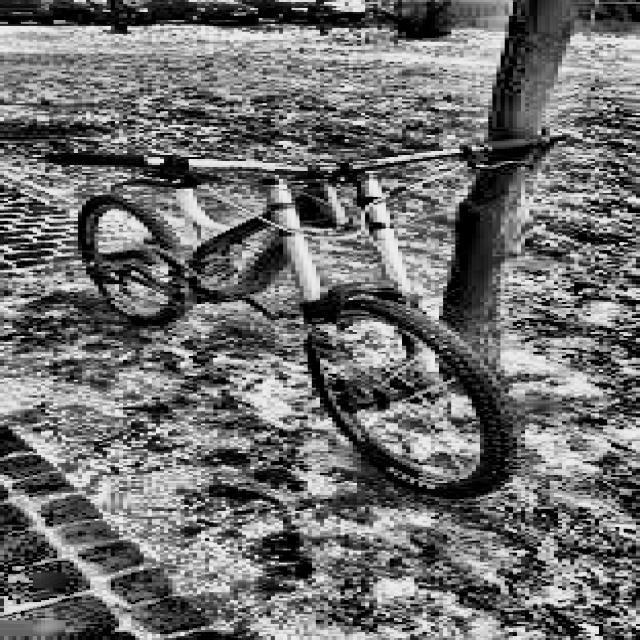bicycle: (21, 134, 554, 505)
